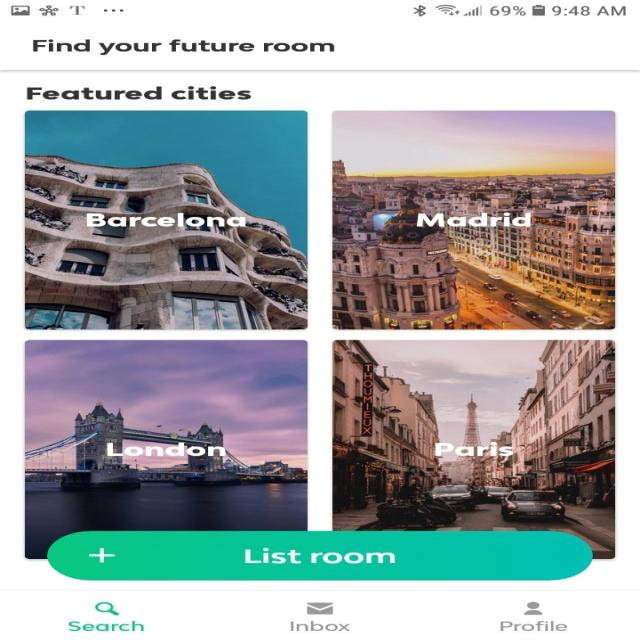Icon: (94, 602, 119, 616), (306, 602, 334, 614), (522, 601, 542, 615)
Image: (24, 339, 308, 559), (330, 110, 614, 330), (24, 110, 308, 330), (332, 340, 616, 559)
Text: (32, 38, 335, 56), (25, 86, 252, 100), (86, 212, 246, 226), (415, 212, 531, 227), (106, 442, 226, 456), (434, 441, 513, 456), (68, 620, 144, 631), (500, 620, 568, 631), (288, 620, 350, 631)
TextButton: (46, 530, 592, 580)
